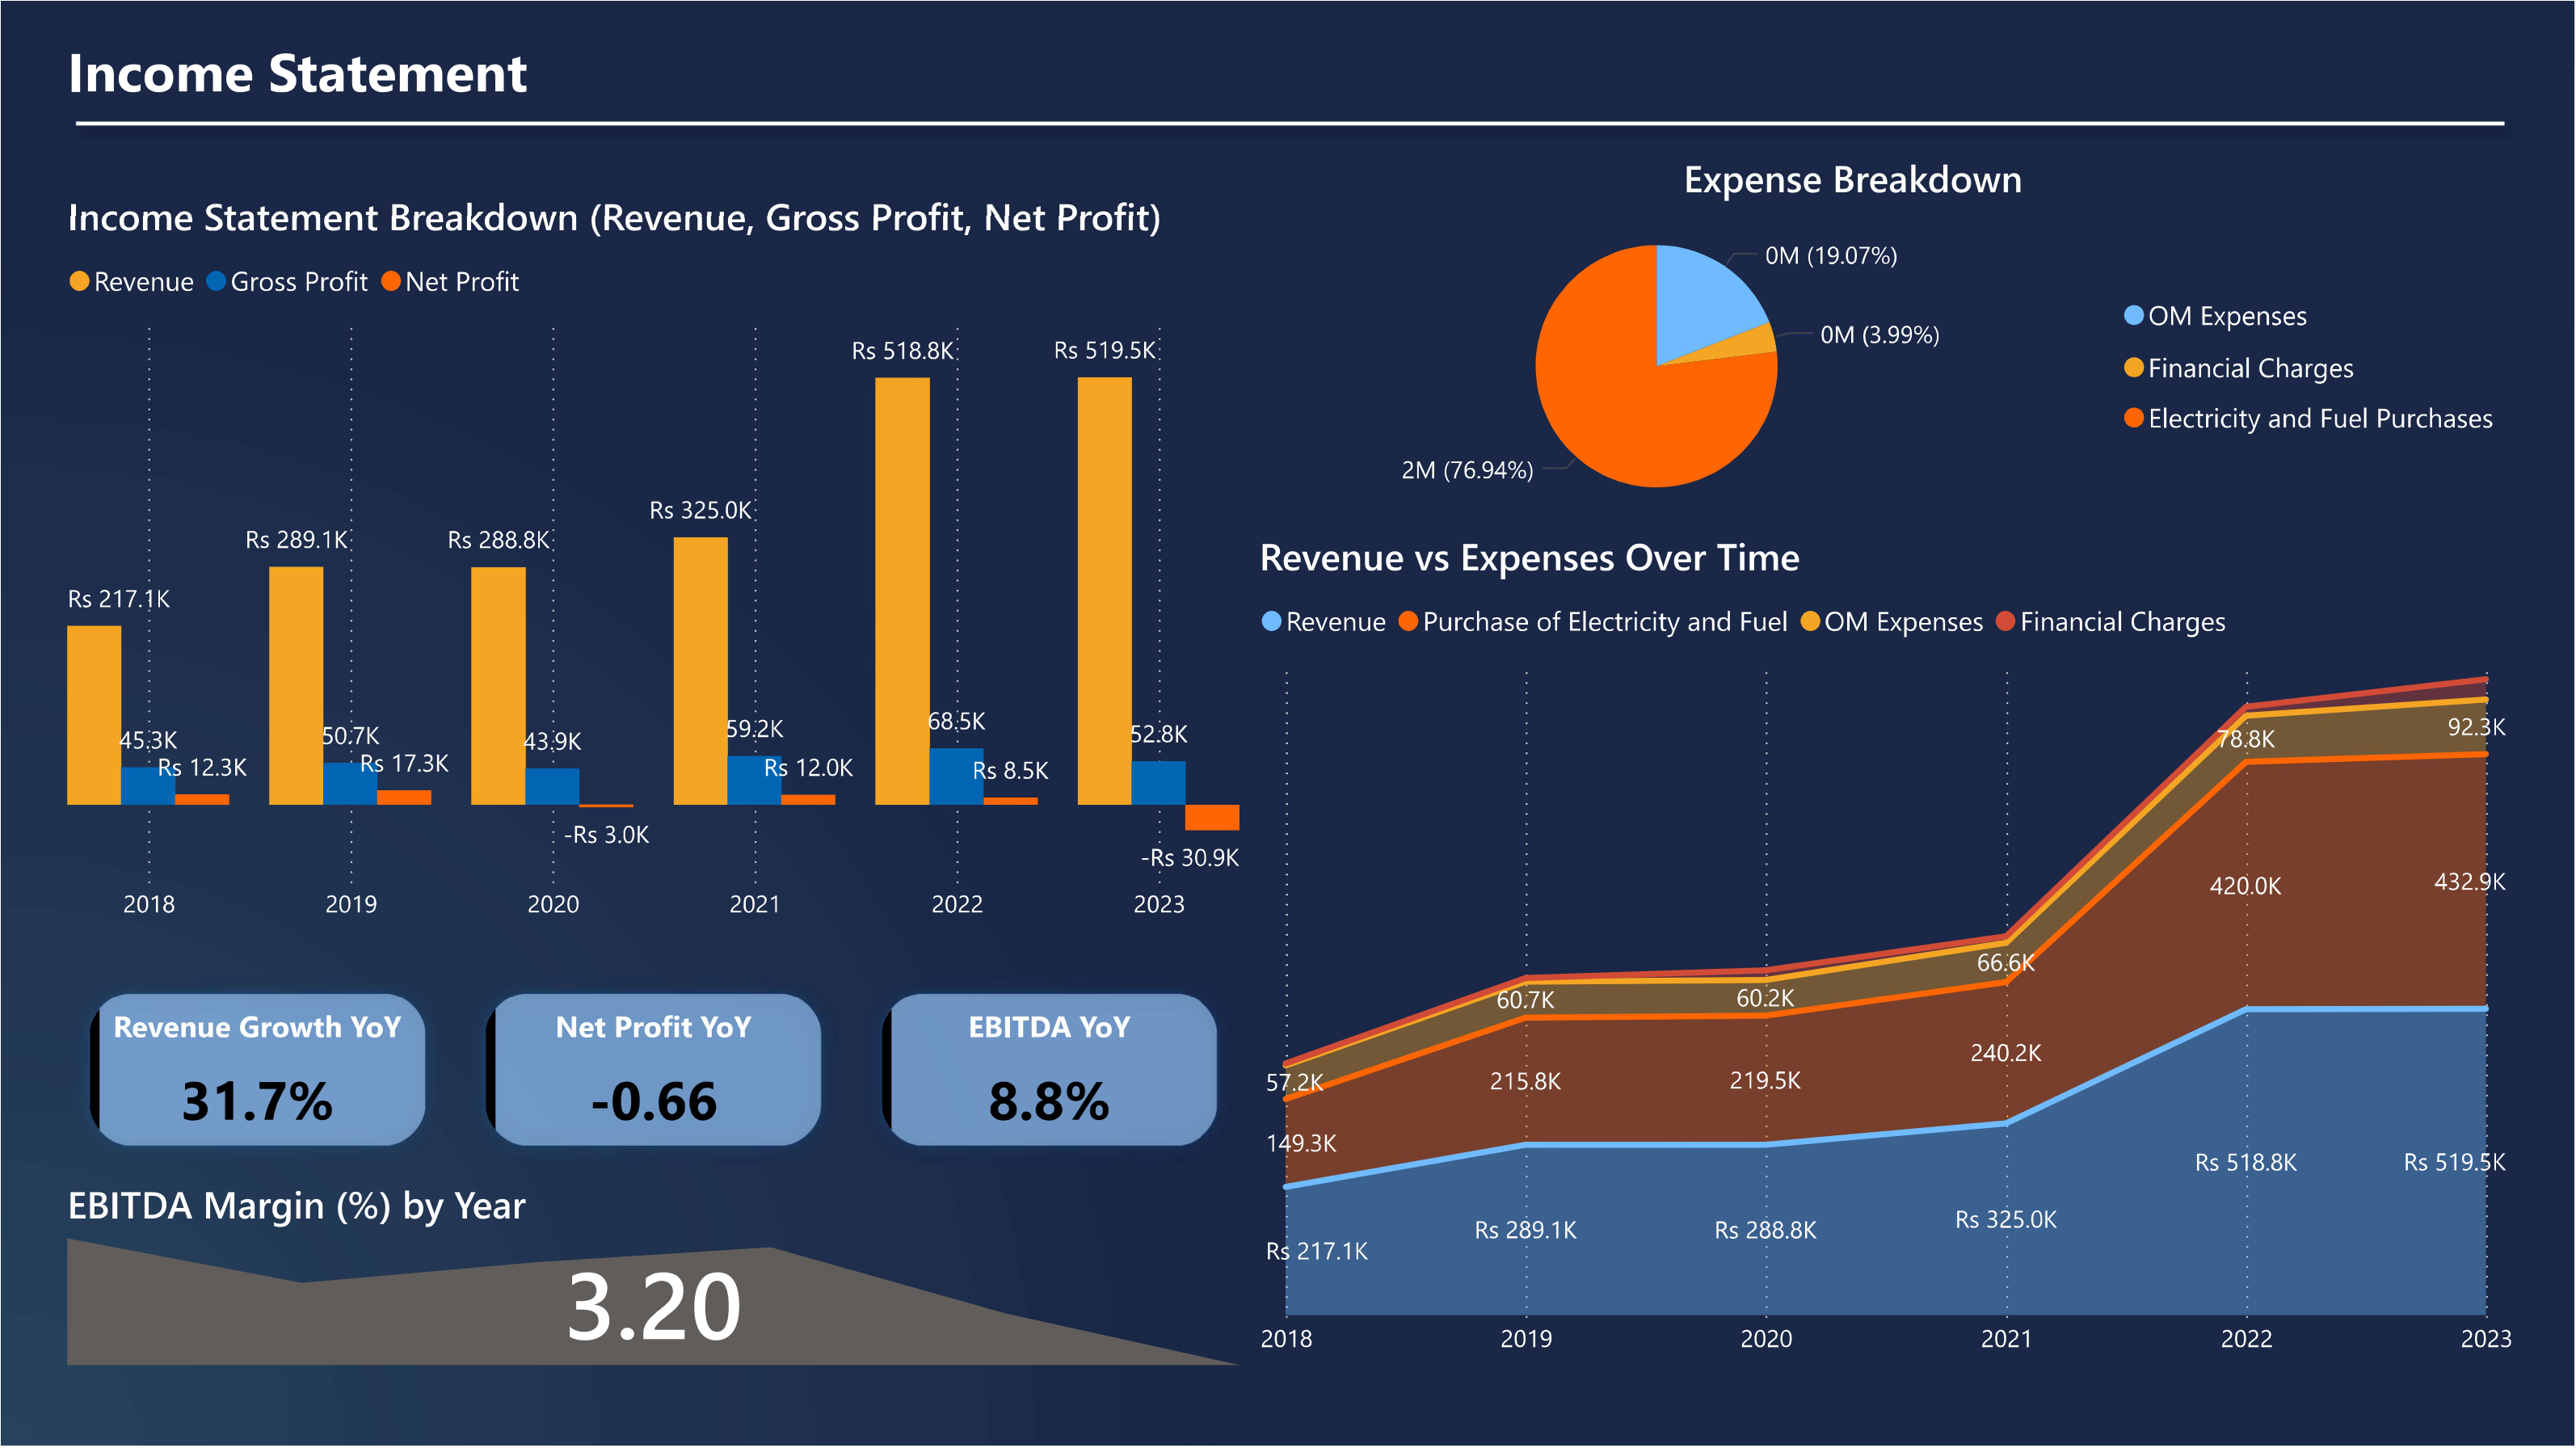

What the dashboard file says about the page in this screenshot:
{"tool":"powerbi","page":{"name":"Income Statement","canvas":[1280,720],"ordinal":1},"visuals":[{"type":"clusteredColumnChart","title":"Income Statement Breakdown (Revenue, Gross Profit, Net Profit)","fields":{"Y":["Sum(DataSet.Revenue)","Sum(DataSet.Gross Profit)","Sum(DataSet.Profit After Tax)"],"Category":["DataSet.Year ID.Variation.Date Hierarchy.Year"]},"box":[28.1,93.8,592.4,373.6],"z":0},{"type":"stackedAreaChart","title":"Revenue vs Expenses Over Time","fields":{"Category":["DataSet.Year ID.Variation.Date Hierarchy.Year"],"Y":["Sum(DataSet.Revenue)","Sum(DataSet.Purchase of Electricity and Fuel)","Sum(DataSet.OM Expenses)","Sum(DataSet.Financial Charges)"]},"box":[620.5,262.6,633,420.4],"z":1000},{"type":"kpi","title":"EBITDA Margin (%) by Year","fields":{"Indicator":["Sum(DataSet.EBITDA Margin)"],"TrendLine":["DataSet.Year ID"]},"box":[28.1,584.6,592.4,98.5],"z":2000},{"type":"pieChart","title":"Expense Breakdown","fields":{"Y":["Sum(DataSet.OM Expenses)","Sum(DataSet.Financial Charges)","Sum(DataSet.Purchase of Electricity and Fuel)"]},"box":[587.7,75,665.8,187.6],"z":3000},{"type":"cardVisual","fields":{"Data":["DataSet.Revenue Growth YoY ","DataSet.Net Profit YoY","DataSet.EBITDA YoY"]},"box":[28.1,476.7,592.4,107.8],"z":4000},{"type":"shape","box":[28.1,14.1,1225.4,93.8],"z":5000},{"type":"textbox","box":[28.1,10.9,250.1,50],"z":6000}]}

Visuals, with their boxes in screenshot pixels (x1, y1, x2, y2), scaled from the page's 1280x720 canvas onto the 2576x1448 screenshot:
"Income Statement Breakdown (Revenue, Gross Profit, Net Profit)" clusteredColumnChart: Rect(57, 188, 1248, 940)
"Revenue vs Expenses Over Time" stackedAreaChart: Rect(1248, 528, 2523, 1374)
"EBITDA Margin (%) by Year" kpi: Rect(57, 1176, 1248, 1374)
"Expense Breakdown" pieChart: Rect(1183, 151, 2523, 528)
cardVisual - DataSet.Revenue Growth YoY  x DataSet.Net Profit YoY: Rect(57, 958, 1248, 1176)
shape: Rect(57, 28, 2523, 217)
textbox: Rect(57, 22, 560, 123)
